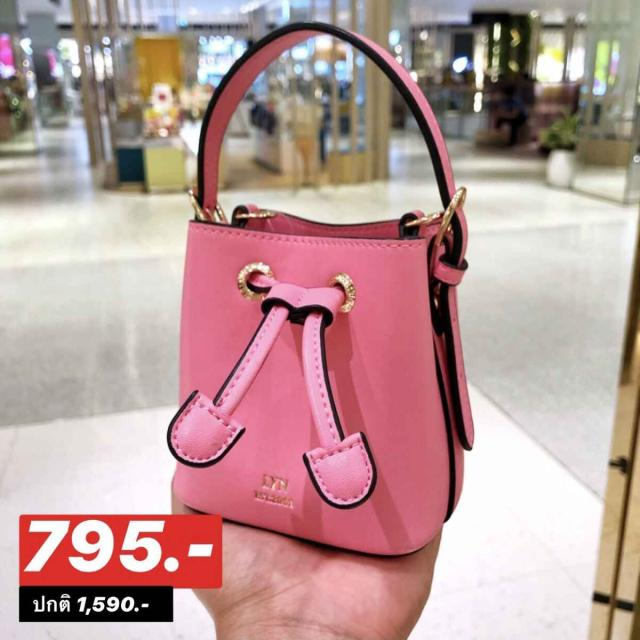Handbag: (165, 175, 484, 560)
